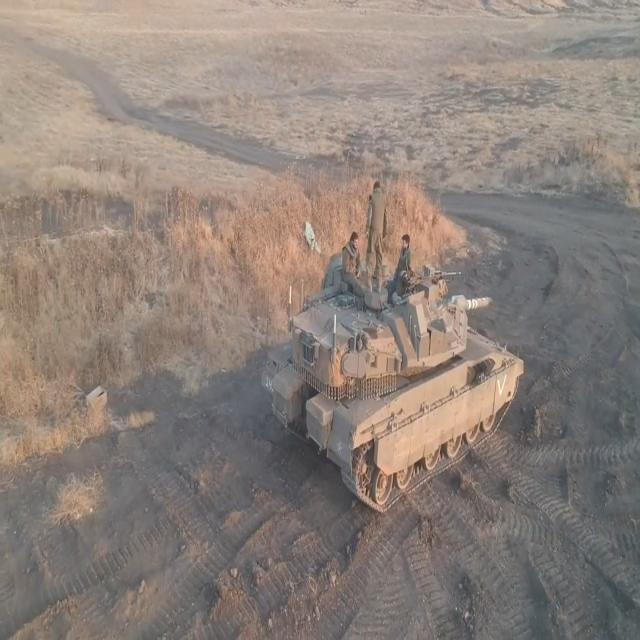tank: (261, 261, 538, 525)
